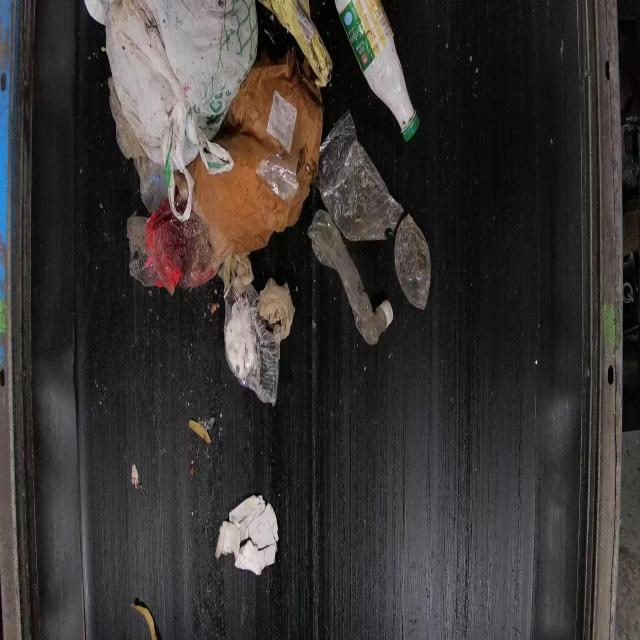bottles: (332, 0, 420, 142)
trashbin: (1, 0, 626, 639)
